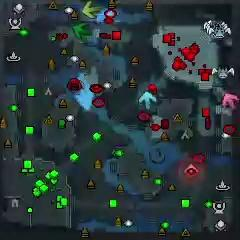Other: (184, 163, 199, 179)
x1: (222, 92, 239, 109)
x2: (84, 2, 102, 19)
x3: (139, 91, 156, 109)
x4: (71, 22, 93, 38)
